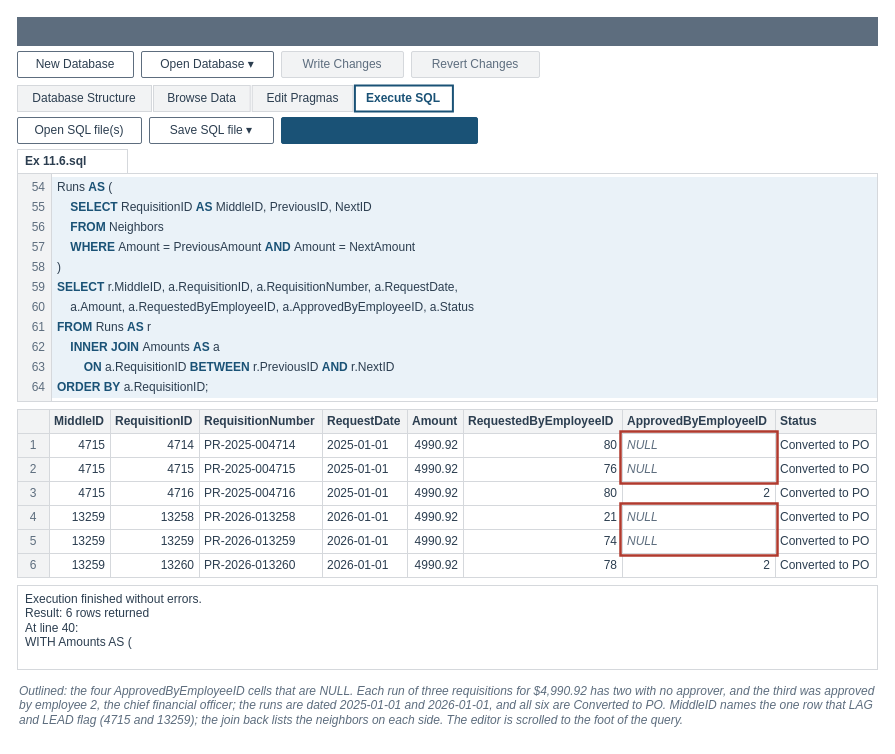
Image size: 895x754. Some labels were removed from this diagram. Here are the shapes that lost their labels. From the top down, the centre of each, then its label:
(447,31): DB Browser for SQLite - C:\Users\you\Documents\CharlesRiver_Work.sqlite
(379,130): ▶ Execute all/selected SQL
